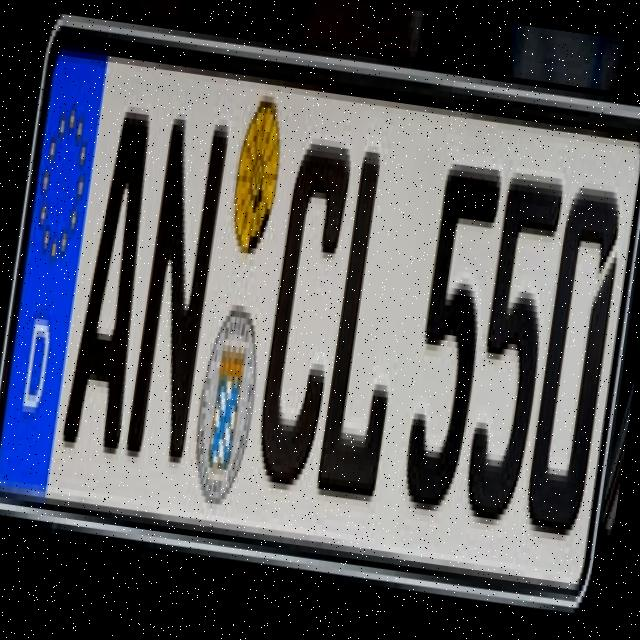Allemagne: (0, 52, 107, 493)
EU: (0, 36, 640, 601)
